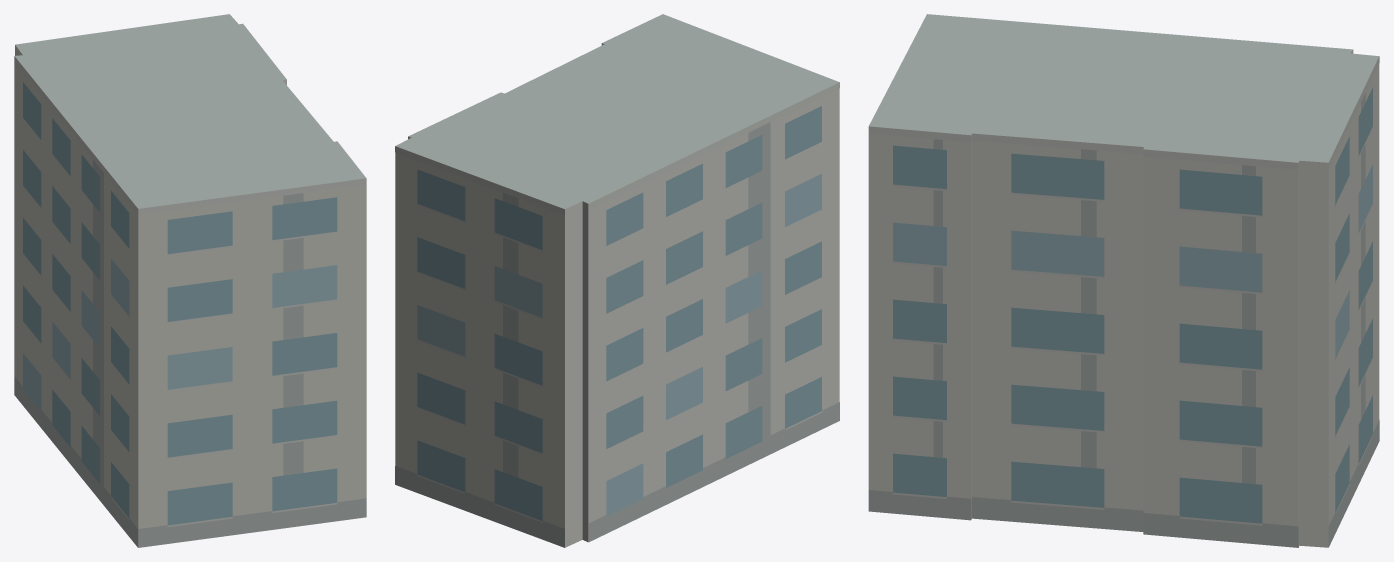
File: survey-upis-32853478.glb
3 renders of one model, left to right at view 1: azimuth 30°, elevation 25°; view 2: azimuth 150°, elevation 25°; view 3: azimuth 270°, elevation 25°, orthographic. The views are drawn at different scales.
Visible parts, largest first — view 1: survey-upis-32853478.tmp; view 2: survey-upis-32853478.tmp; view 3: survey-upis-32853478.tmp.
Boxes of the visible parts, x1,y1,x2,y2 form: survey-upis-32853478.tmp: (14, 14, 366, 547); survey-upis-32853478.tmp: (395, 14, 839, 547); survey-upis-32853478.tmp: (868, 14, 1379, 547).
Size of the model in its own units: 10.91 by 13.15 by 15.82.
